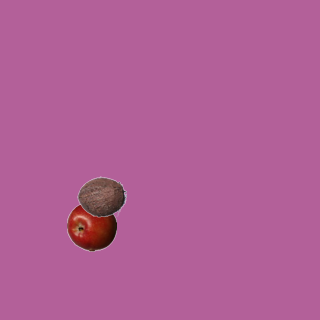Apple Braeburn: (66, 201, 116, 251)
Cocos: (76, 171, 126, 221)
